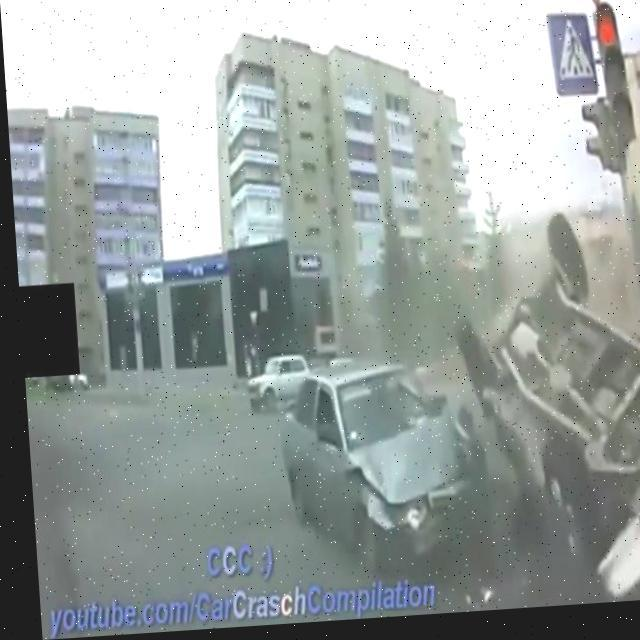multiple_accident: (260, 205, 640, 564)
